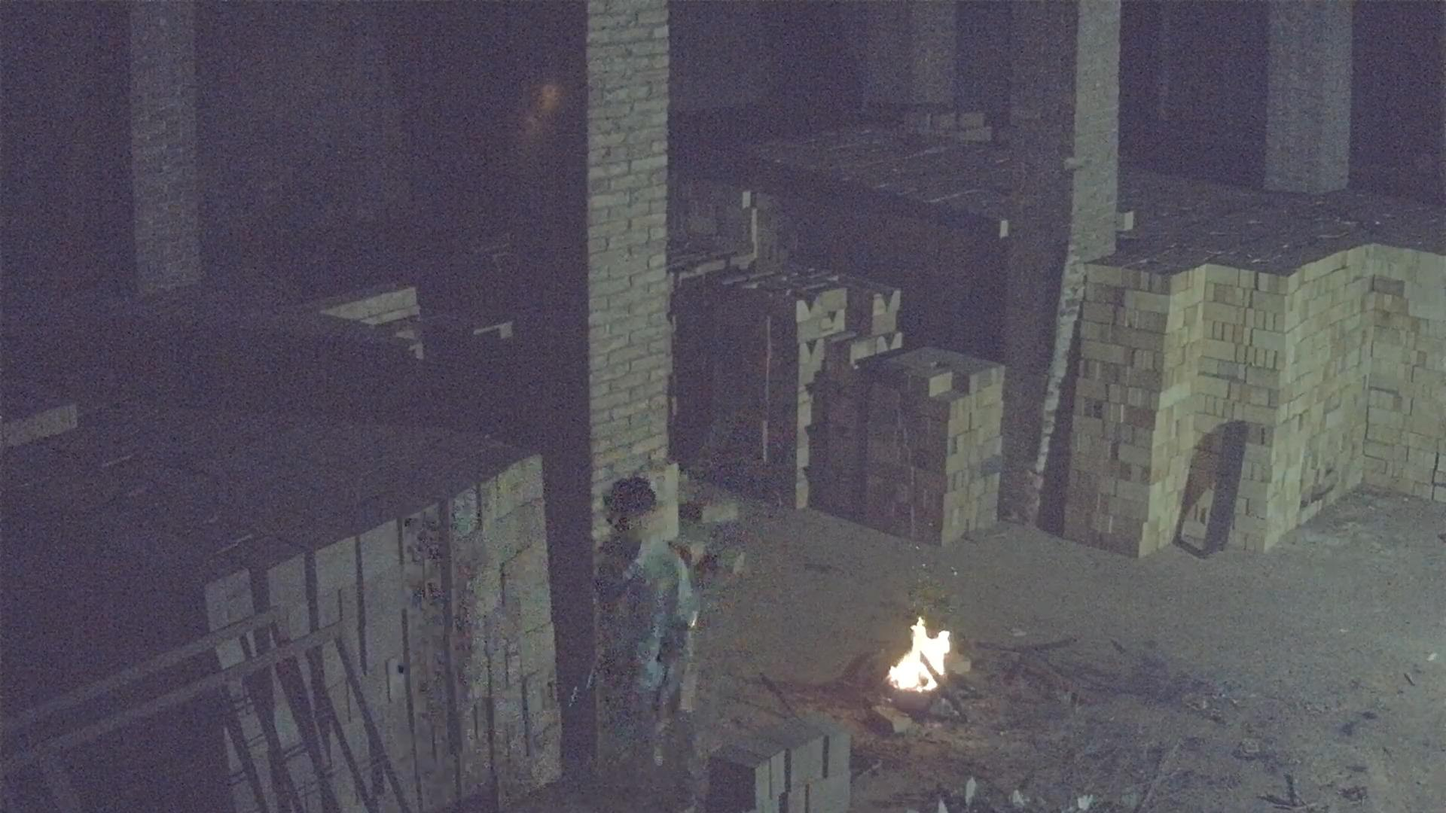fire: (889, 617, 951, 689)
